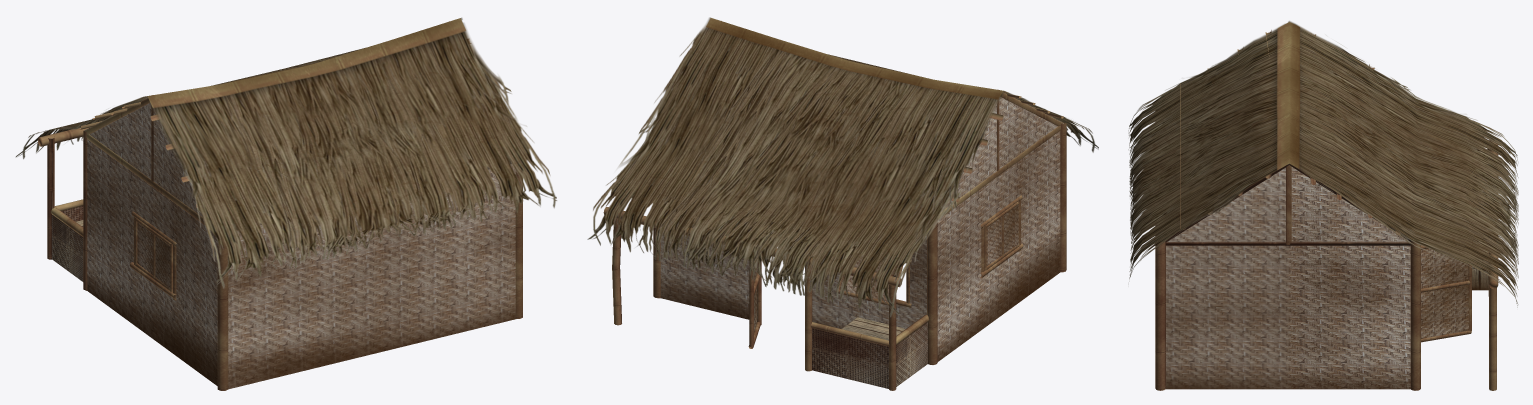
The model's file is gubuk.glb.
The picture shows the model from 3 angles, left to right: view 1: azimuth 30°, elevation 25°; view 2: azimuth 150°, elevation 25°; view 3: azimuth 270°, elevation 25°; orthographic projection. The views are drawn at different scales.
Parts seen in each view (by area): view 1: atap_nbambo, dinding3; view 2: atap_nbambo, dinding3; view 3: atap_nbambo, dinding3.
Boxes of the visible parts, x1=… form: atap_nbambo: x1=15, y1=17, x2=556, y2=390; dinding3: x1=84, y1=98, x2=515, y2=389; atap_nbambo: x1=587, y1=17, x2=1098, y2=390; dinding3: x1=660, y1=97, x2=1063, y2=361; atap_nbambo: x1=1128, y1=21, x2=1518, y2=390; dinding3: x1=1166, y1=167, x2=1410, y2=389.
Size of the model in its own units: 49.38 by 34.32 by 51.86.
2 materials, 2 textured.
